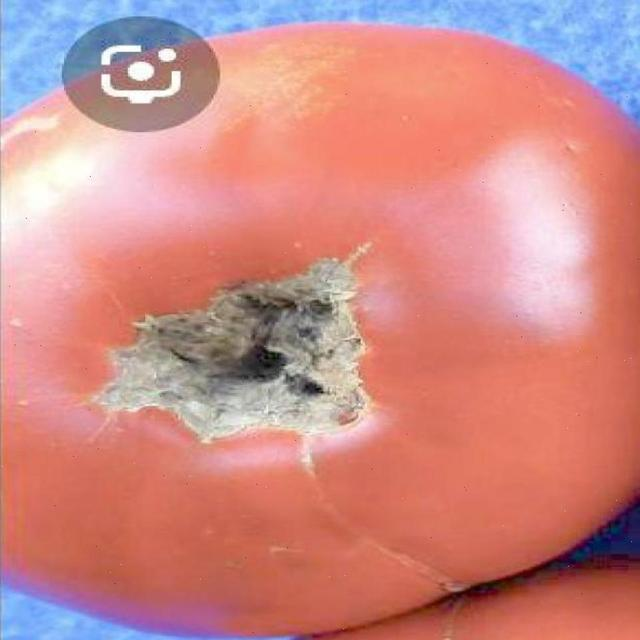Blossom End Rot Fruit: (60, 169, 247, 301)
